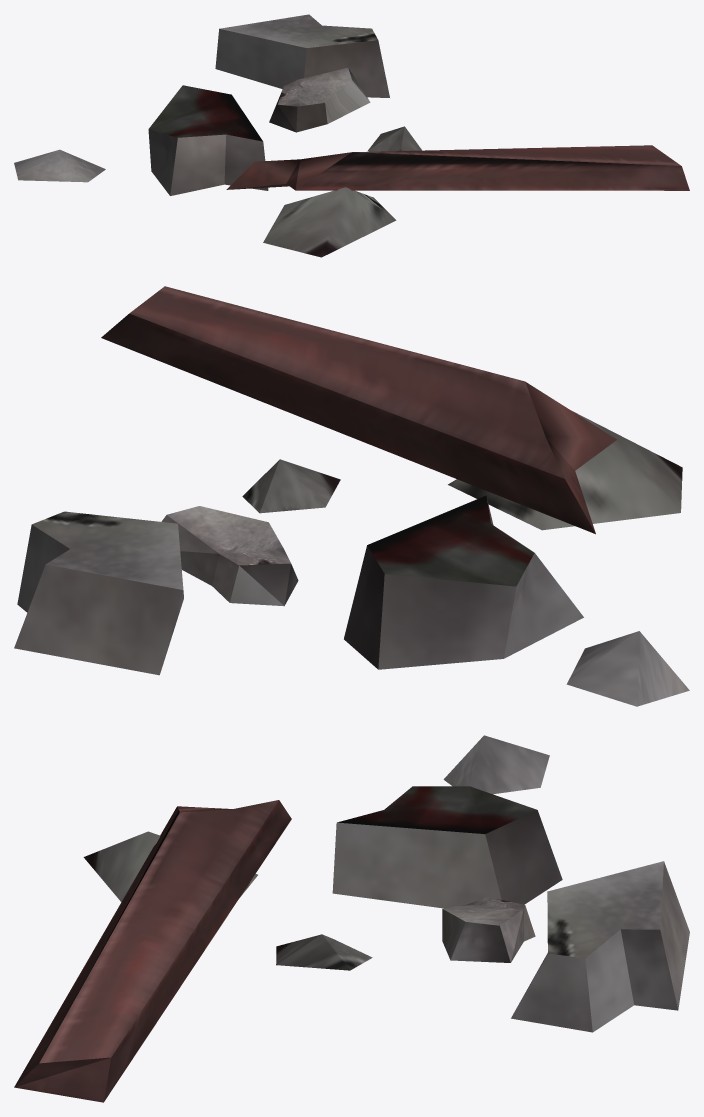
The model's file is PRP_TempleStoneS.FBX.
The picture shows the model from 3 angles, top to bottom: view 1: azimuth 30°, elevation 25°; view 2: azimuth 150°, elevation 25°; view 3: azimuth 270°, elevation 25°; orthographic projection. The views are drawn at different scales.
Parts seen in each view (by area): view 1: PRP_TempleStoneS; view 2: PRP_TempleStoneS; view 3: PRP_TempleStoneS.
Part boxes in pixels (left/top/right/bottom): PRP_TempleStoneS: left=14, top=14, right=689, bottom=257; PRP_TempleStoneS: left=14, top=286, right=689, bottom=706; PRP_TempleStoneS: left=14, top=735, right=689, bottom=1102.
Size of the model in its own units: 319 by 45.36 by 262.
